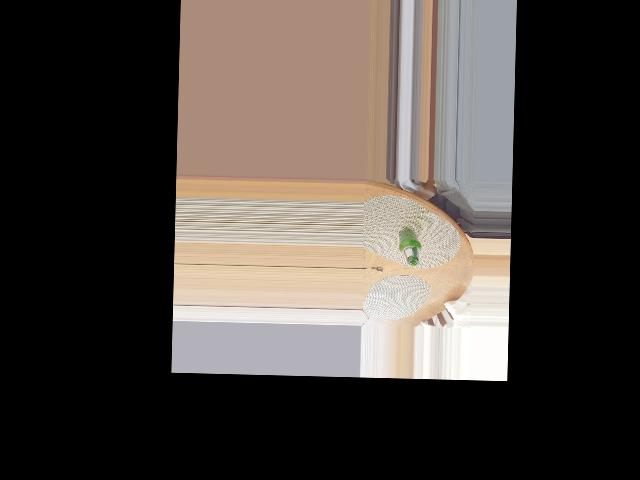beer: (398, 228, 422, 265)
